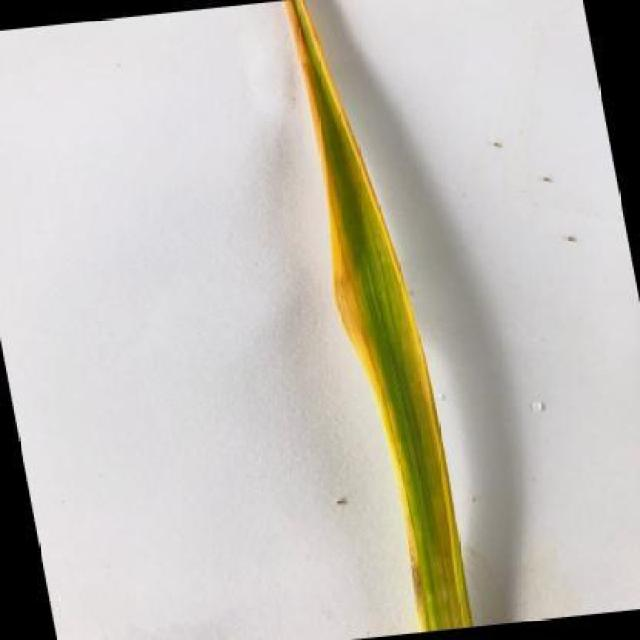Rice False Smut: (287, 0, 472, 631)
